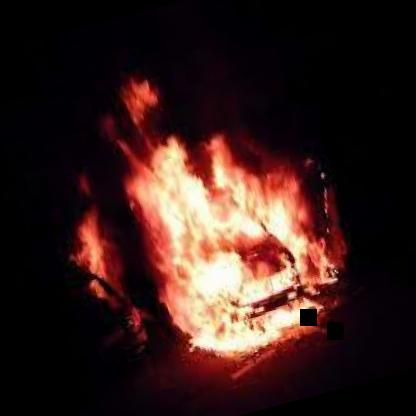fire: (55, 33, 386, 398)
